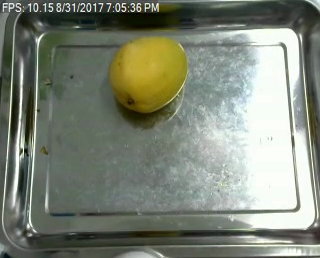Mango: (111, 36, 185, 111)
